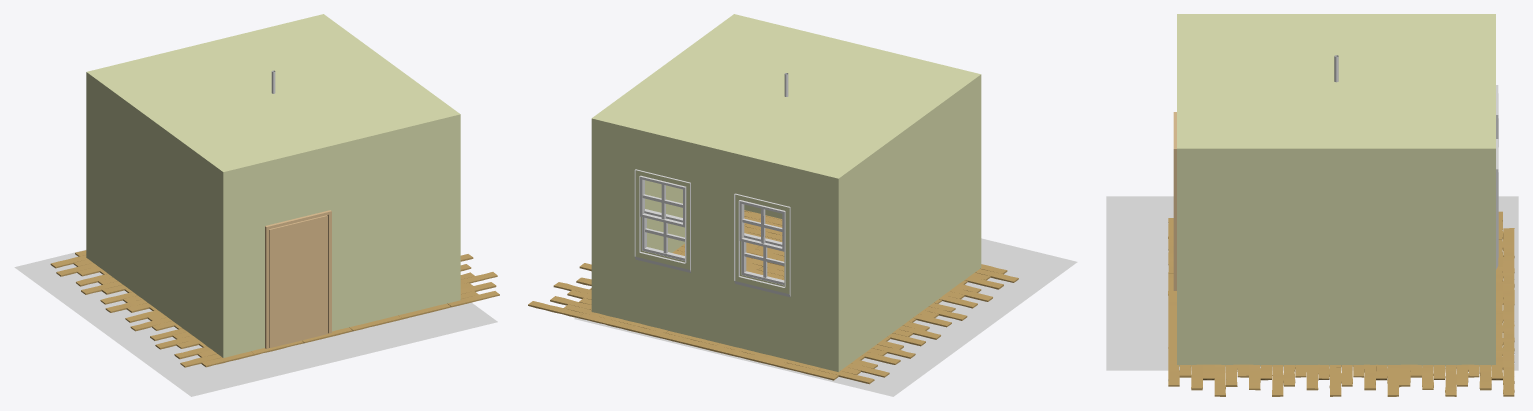
The model's file is room.gltf.
The picture shows the model from 3 angles, left to right: view 1: azimuth 30°, elevation 25°; view 2: azimuth 150°, elevation 25°; view 3: azimuth 270°, elevation 25°; orthographic projection. The views are drawn at different scales.
Visible parts, largest first — view 1: Cube.018, Plane.002, Cube.020, Cube.021; view 2: Cube.018, Cube.021, Plane.002; view 3: Cube.018, Plane.002, Cube.021, Cube.020.
Part boxes in pixels (x1,y1,x2,y2): Cube.018: [86, 14, 460, 357]; Plane.002: [14, 250, 497, 396]; Cube.020: [265, 210, 331, 348]; Cube.021: [50, 250, 499, 367]; Cube.018: [591, 14, 981, 371]; Cube.021: [528, 210, 1018, 384]; Plane.002: [574, 238, 1077, 396]; Cube.018: [1177, 14, 1498, 366]; Plane.002: [1106, 196, 1518, 370]; Cube.021: [1168, 211, 1514, 396]; Cube.020: [1173, 112, 1176, 290].
Size of the model in its own units: 153 by 86.6 by 133.
